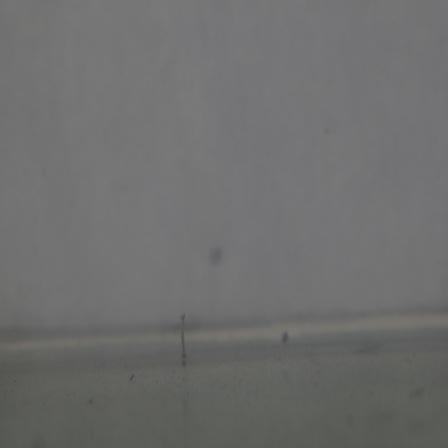Jentik-Nyamuk: (175, 309, 192, 369)
